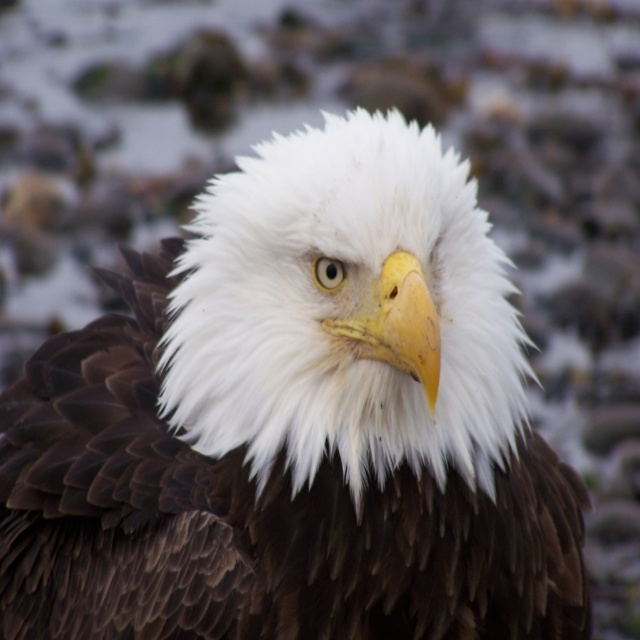Eagle: (0, 106, 608, 640)
